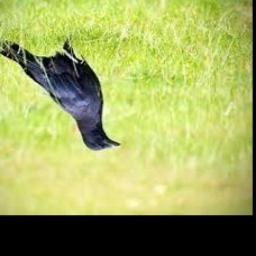Crow: (0, 31, 121, 151)
